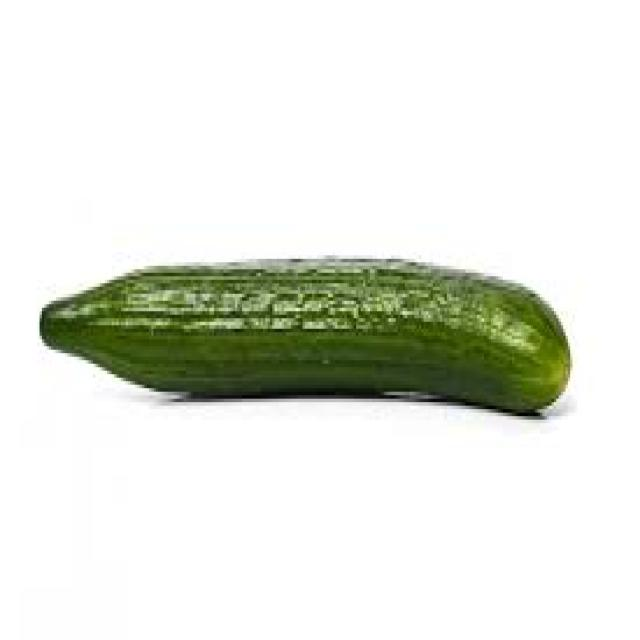cucumber: (37, 252, 573, 412)
